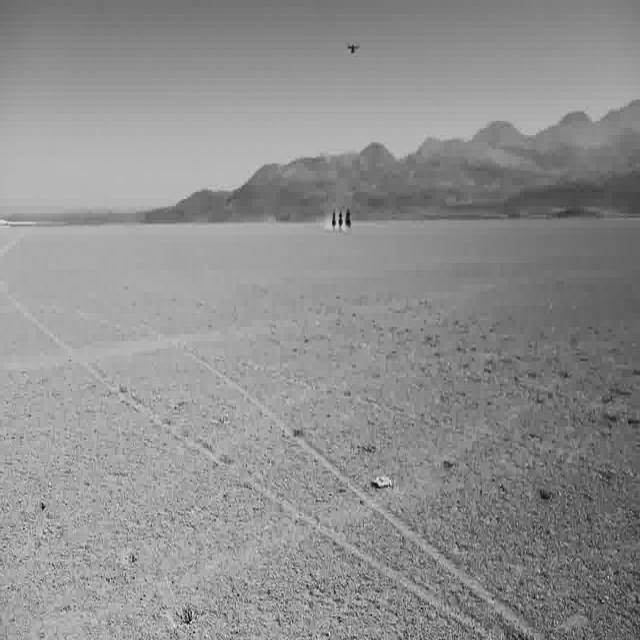drone: (345, 34, 359, 60)
